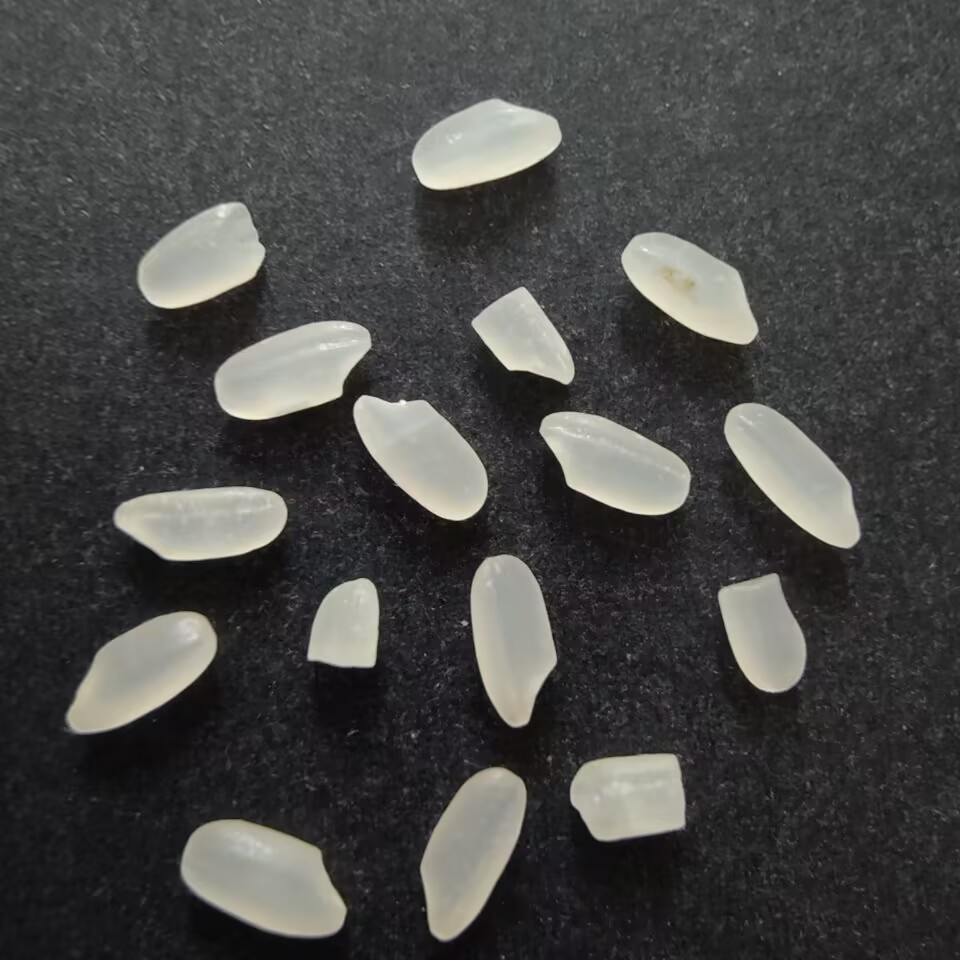broken: (135, 199, 267, 313), (564, 747, 688, 844), (715, 570, 810, 696), (466, 284, 579, 388), (301, 573, 383, 676)
rice: (723, 401, 866, 554), (417, 762, 529, 942), (63, 607, 218, 737), (178, 819, 344, 940), (350, 392, 493, 526), (537, 406, 691, 523), (618, 229, 761, 350), (469, 553, 562, 736), (213, 318, 373, 424), (408, 94, 561, 192), (111, 484, 286, 563)
